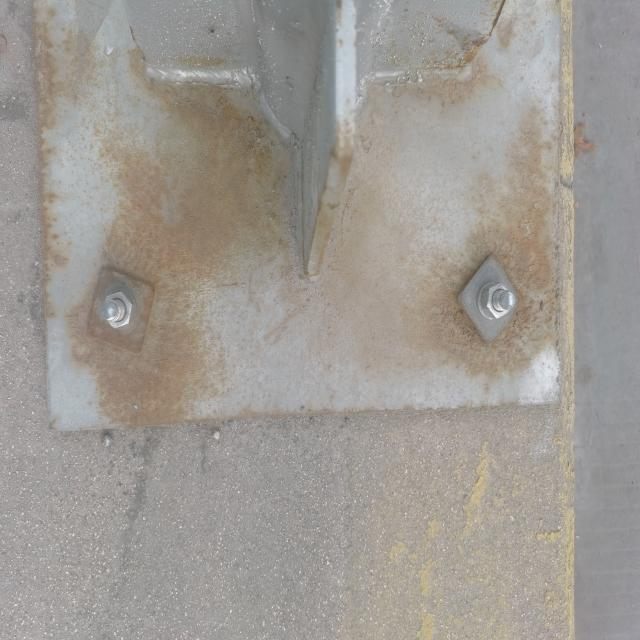bolt nut: (102, 289, 135, 330), (481, 281, 514, 320)
